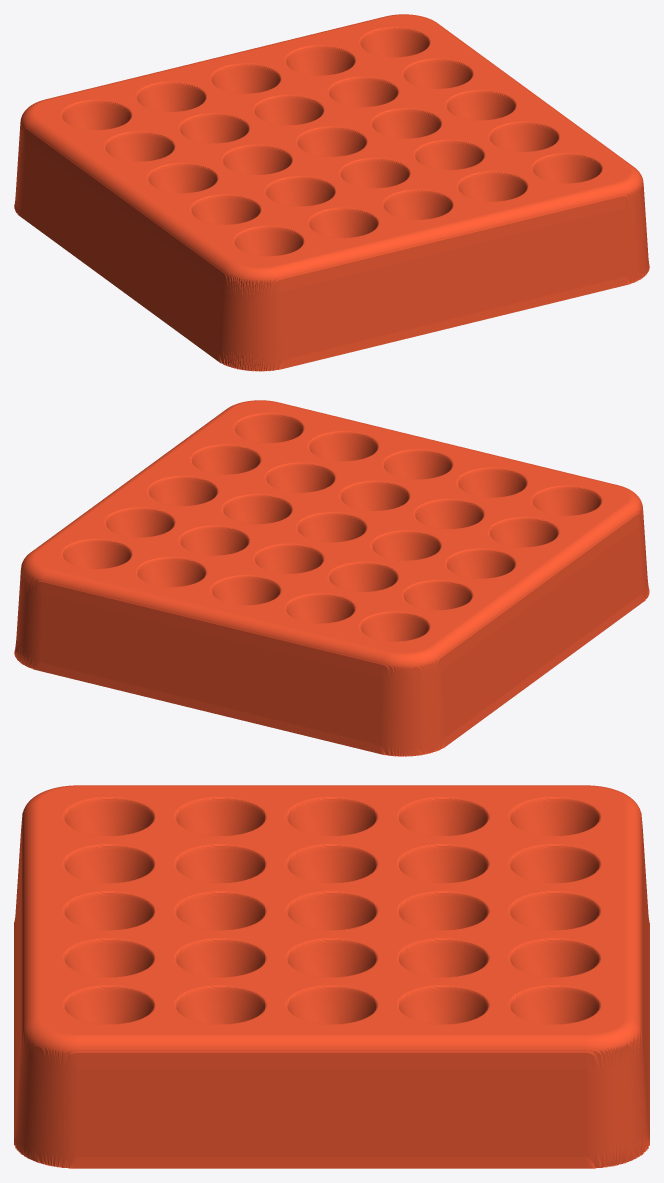
The model's file is mold.glb.
3 views of the same model, one above another, from view 1: azimuth 30°, elevation 25°; view 2: azimuth 150°, elevation 25°; view 3: azimuth 270°, elevation 25° (orthographic). The views are drawn at different scales.
Parts seen in each view (by area): view 1: geometry_0; view 2: geometry_0; view 3: geometry_0.
Part boxes in pixels (x1,y1,x2,y2): geometry_0: (14,14,649,371); geometry_0: (14,400,649,756); geometry_0: (14,785,649,1168).
Bounding box in the file's own units: 0.0902 × 0.0193 × 0.0902.
